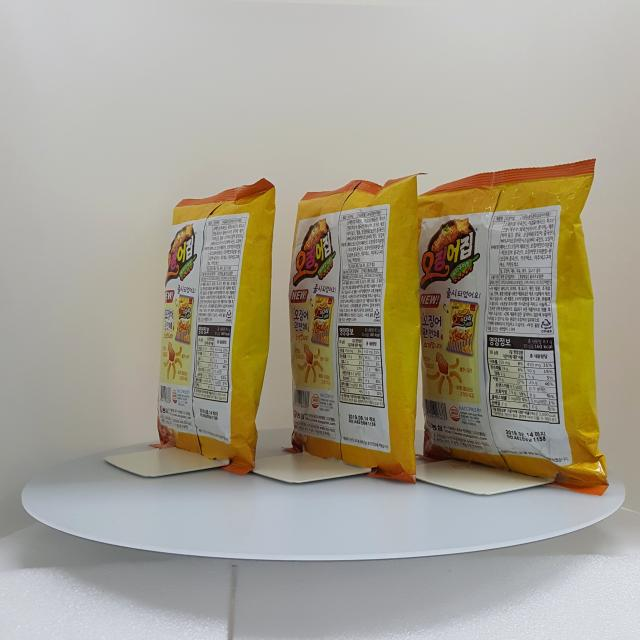-83G: (416, 159, 610, 497), (284, 173, 430, 486), (151, 179, 276, 476)
